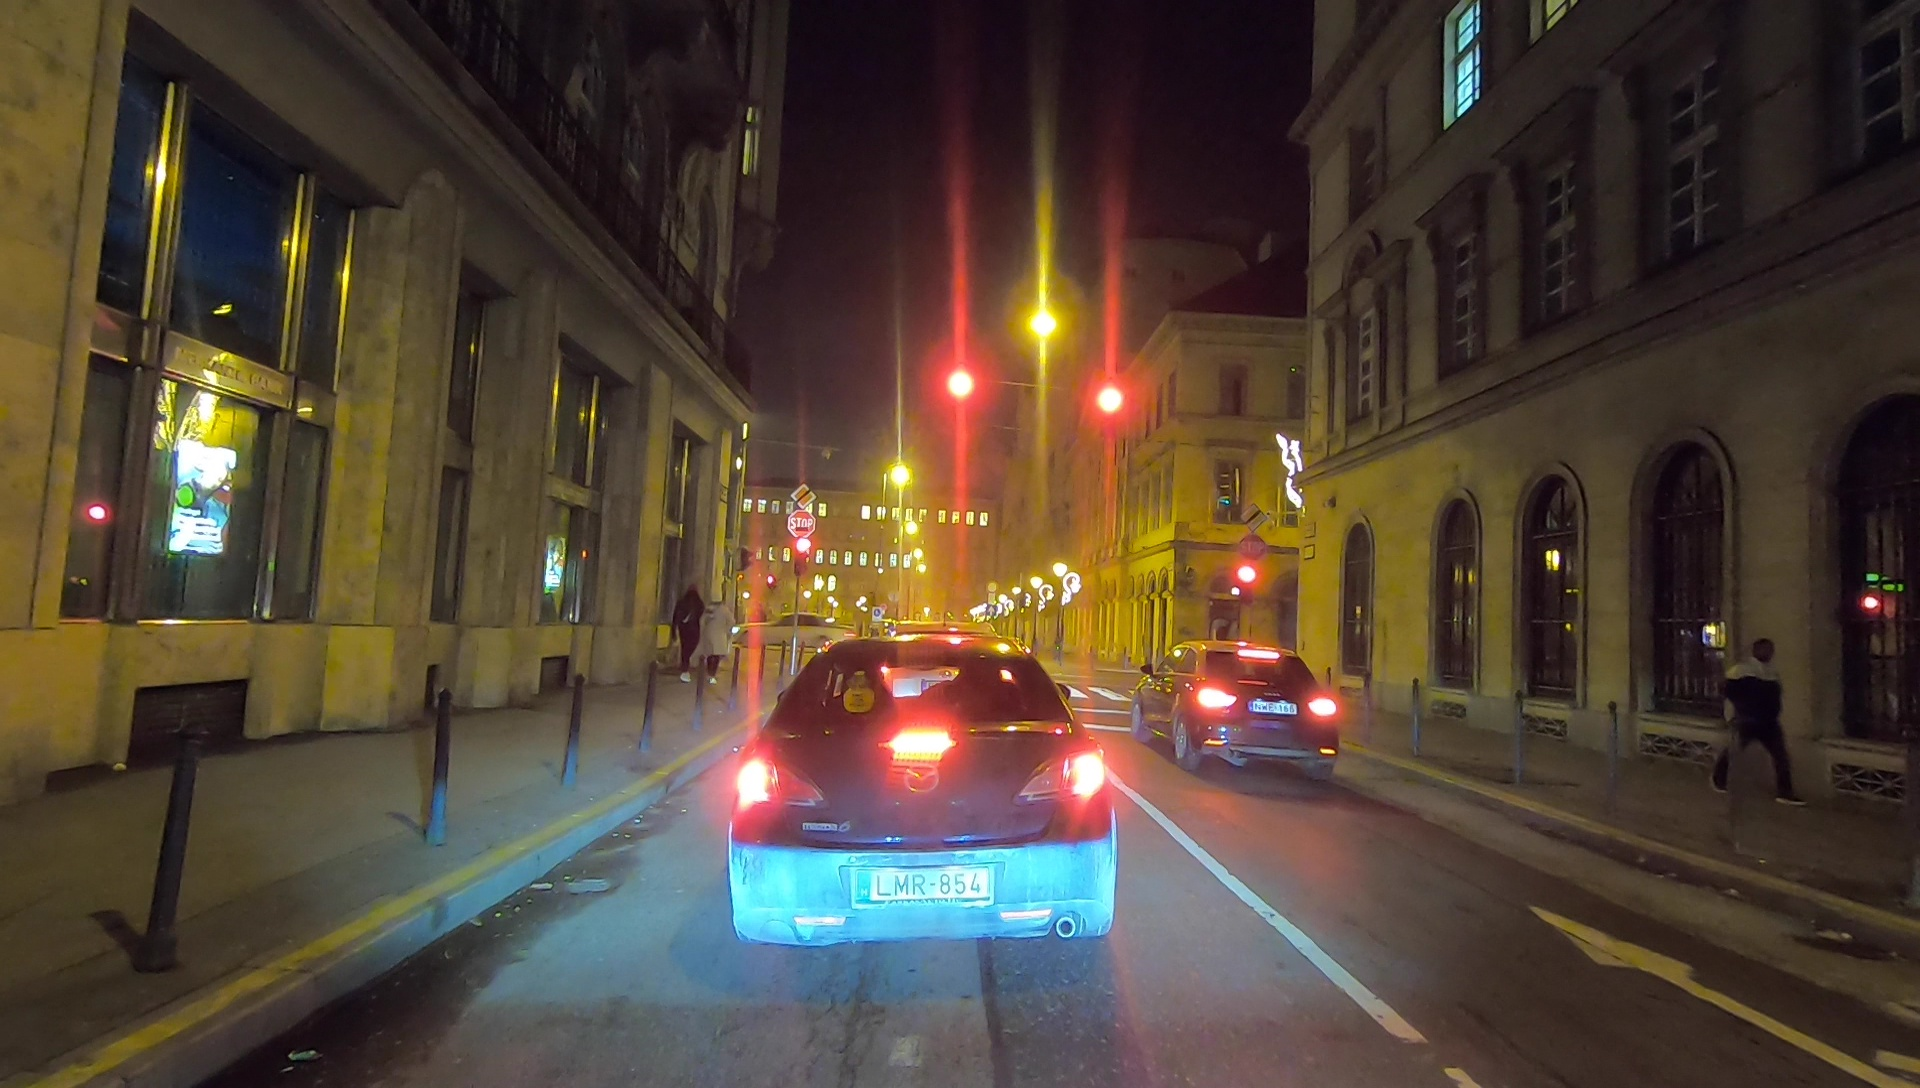person: (1710, 632, 1801, 810), (704, 595, 738, 691), (673, 580, 699, 687)
